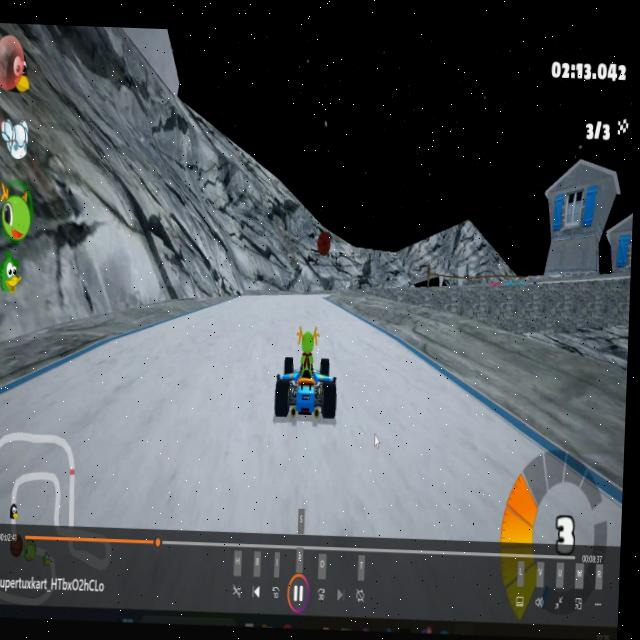player_kart: (273, 327, 340, 423)
track: (0, 398, 555, 541), (30, 361, 275, 406), (108, 326, 276, 365), (339, 374, 478, 415), (339, 341, 443, 375), (332, 308, 386, 346), (179, 309, 277, 329), (244, 295, 329, 316), (246, 292, 330, 297)
